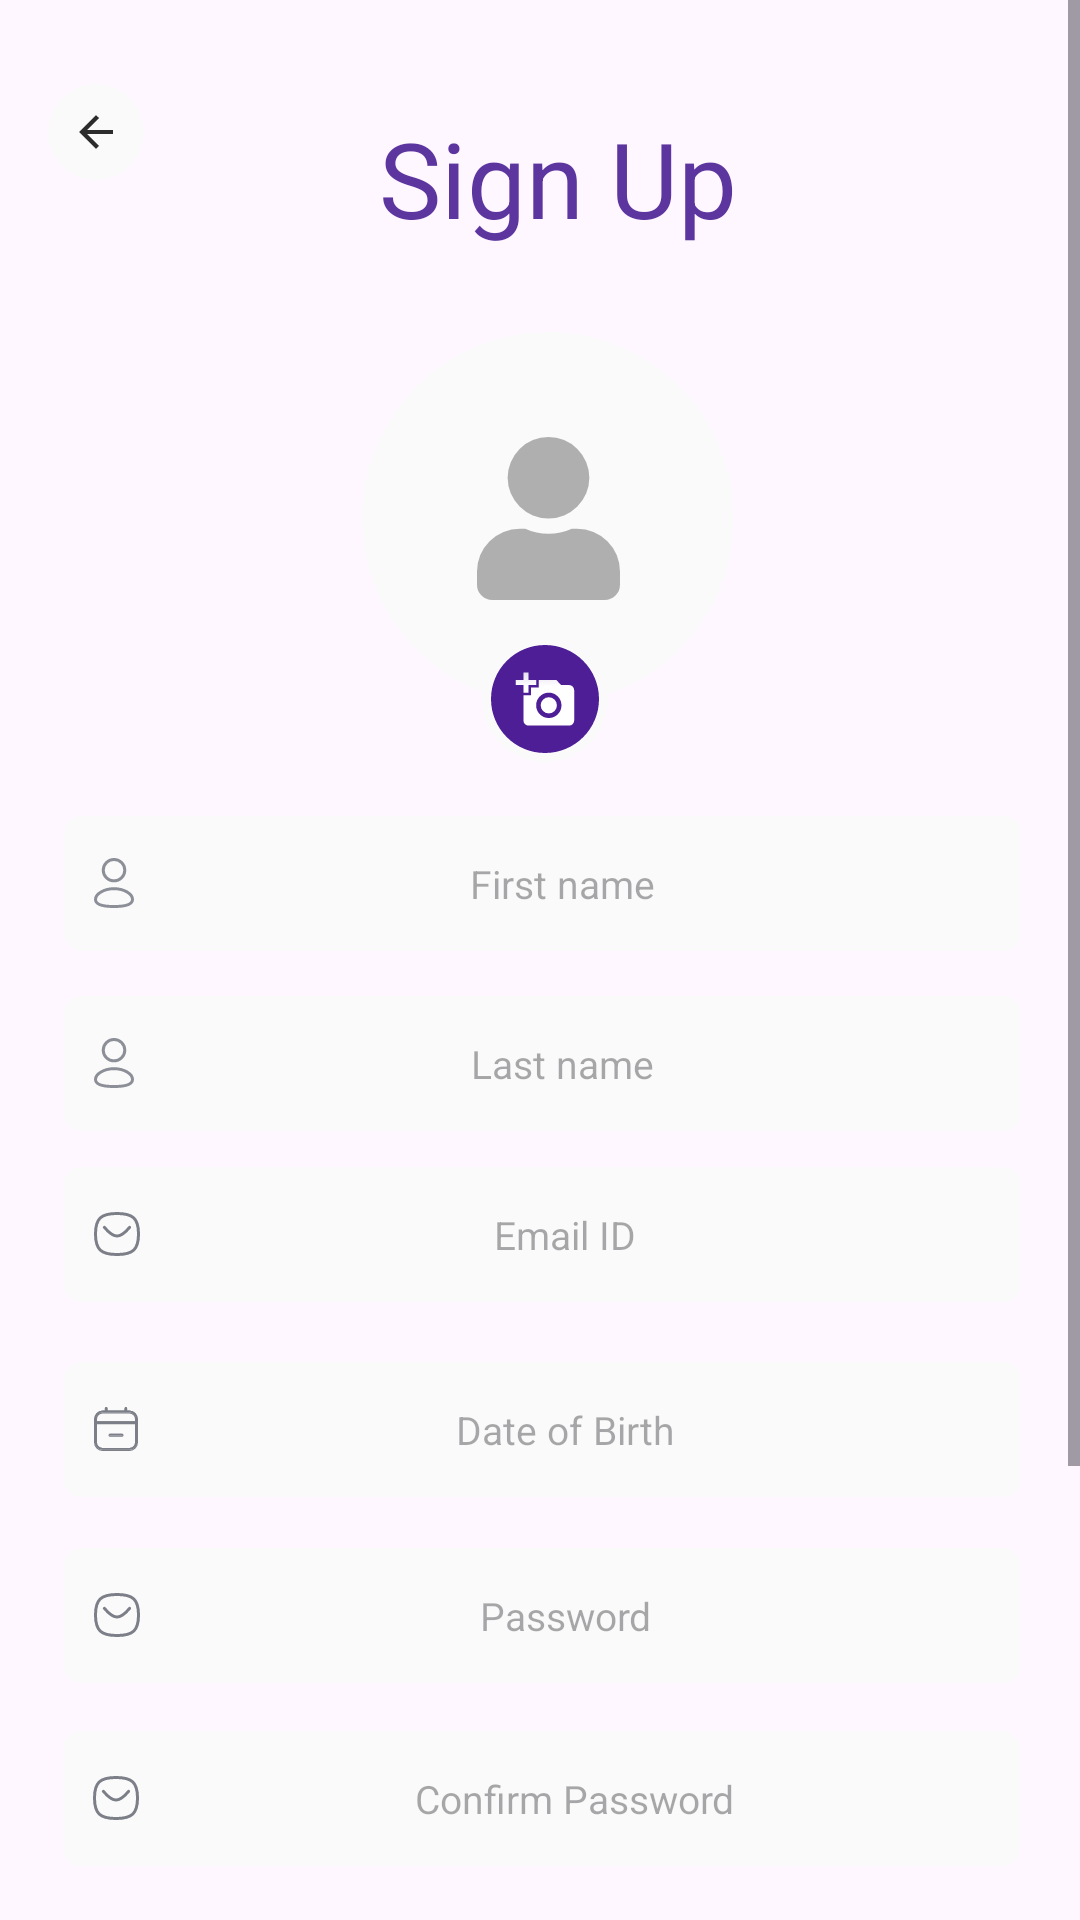

Where to tap for icons on this 1080 × 1920 app screen, as point (x, y):
backbutton: point (96, 132)
camera: point (545, 699)
profile: point (548, 518)
